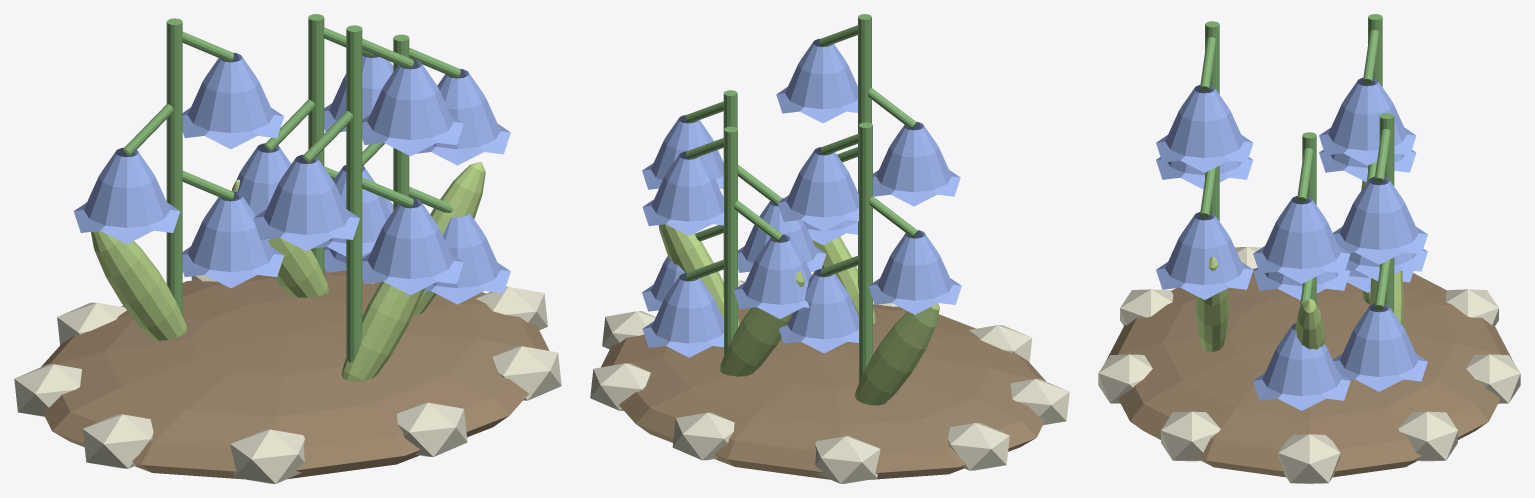
File: Bluebell2.fbx
3 renders of one model, left to right at view 1: azimuth 30°, elevation 25°; view 2: azimuth 150°, elevation 25°; view 3: azimuth 270°, elevation 25°, orthographic. The views are drawn at different scales.
Visible parts, largest first — view 1: Oval garden bed.004, Scalloped blue bell.016, Scalloped blue bell.013, Scalloped blue bell.012, Scalloped blue bell.017, Scalloped blue bell.015, Scalloped blue bell.014, Upright stem leaf.019, Bluebell stalk.005, Bluebell stalk.004, Scalloped blue bell.009, Upright stem leaf.020 (+24 smaller); view 2: Oval garden bed.004, Scalloped blue bell.013, Scalloped blue bell.016, Scalloped blue bell.015, Scalloped blue bell.018, Scalloped blue bell.012, Scalloped blue bell.020, Upright stem leaf.019, Scalloped blue bell.019, Scalloped blue bell.014, Bluebell stalk.004, Bluebell stalk.006 (+20 smaller); view 3: Oval garden bed.004, Scalloped blue bell.015, Scalloped blue bell.009, Scalloped blue bell.017, Scalloped blue bell.018, Scalloped blue bell.020, Scalloped blue bell.011, Scalloped blue bell.012, Bed edging pebble.036, Bed edging pebble.037, Bed edging pebble.044, Upright stem leaf.020 (+21 smaller).
Part boxes in pixels (x1,y1,x2,y2): Oval garden bed.004: [41, 268, 549, 479]; Scalloped blue bell.016: [253, 154, 359, 251]; Scalloped blue bell.013: [73, 147, 180, 243]; Scalloped blue bell.012: [182, 53, 283, 149]; Scalloped blue bell.017: [362, 198, 463, 295]; Scalloped blue bell.015: [362, 59, 463, 156]; Scalloped blue bell.014: [182, 192, 283, 288]; Upright stem leaf.019: [91, 231, 187, 340]; Bluebell stalk.005: [346, 25, 362, 362]; Bluebell stalk.004: [166, 18, 182, 315]; Scalloped blue bell.009: [416, 69, 510, 165]; Upright stem leaf.020: [341, 282, 425, 381]; Oval garden bed.004: [601, 304, 1045, 479]; Scalloped blue bell.013: [868, 230, 961, 314]; Scalloped blue bell.016: [873, 122, 960, 206]; Scalloped blue bell.015: [776, 39, 857, 123]; Scalloped blue bell.018: [642, 151, 723, 235]; Scalloped blue bell.012: [777, 147, 858, 231]; Scalloped blue bell.020: [642, 273, 723, 357]; Upright stem leaf.019: [854, 303, 939, 405]; Scalloped blue bell.019: [733, 234, 811, 318]; Scalloped blue bell.014: [779, 269, 858, 353]; Bluebell stalk.004: [859, 122, 872, 383]; Bluebell stalk.006: [724, 126, 737, 355]; Oval garden bed.004: [1105, 268, 1513, 477]; Scalloped blue bell.015: [1156, 85, 1253, 172]; Scalloped blue bell.009: [1253, 196, 1350, 283]; Scalloped blue bell.017: [1156, 212, 1253, 299]; Scalloped blue bell.018: [1333, 176, 1427, 264]; Scalloped blue bell.020: [1333, 303, 1427, 391]; Scalloped blue bell.011: [1253, 323, 1350, 410]; Scalloped blue bell.012: [1319, 77, 1416, 165]; Bed edging pebble.036: [1278, 434, 1340, 483]; Bed edging pebble.037: [1398, 411, 1457, 461]; Bed edging pebble.044: [1161, 411, 1220, 461]; Upright stem leaf.020: [1195, 256, 1228, 352].
Size of the model in its own units: 171 by 139 by 139.
